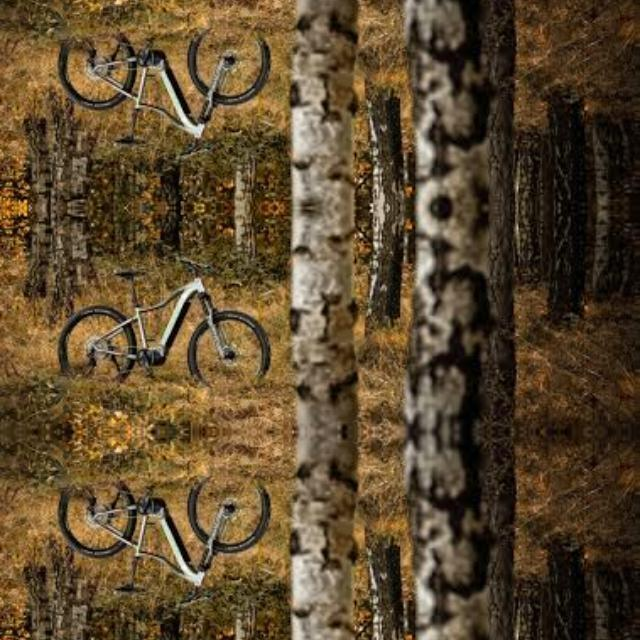obstacle: (59, 258, 279, 394), (59, 21, 279, 156), (59, 470, 279, 604)
